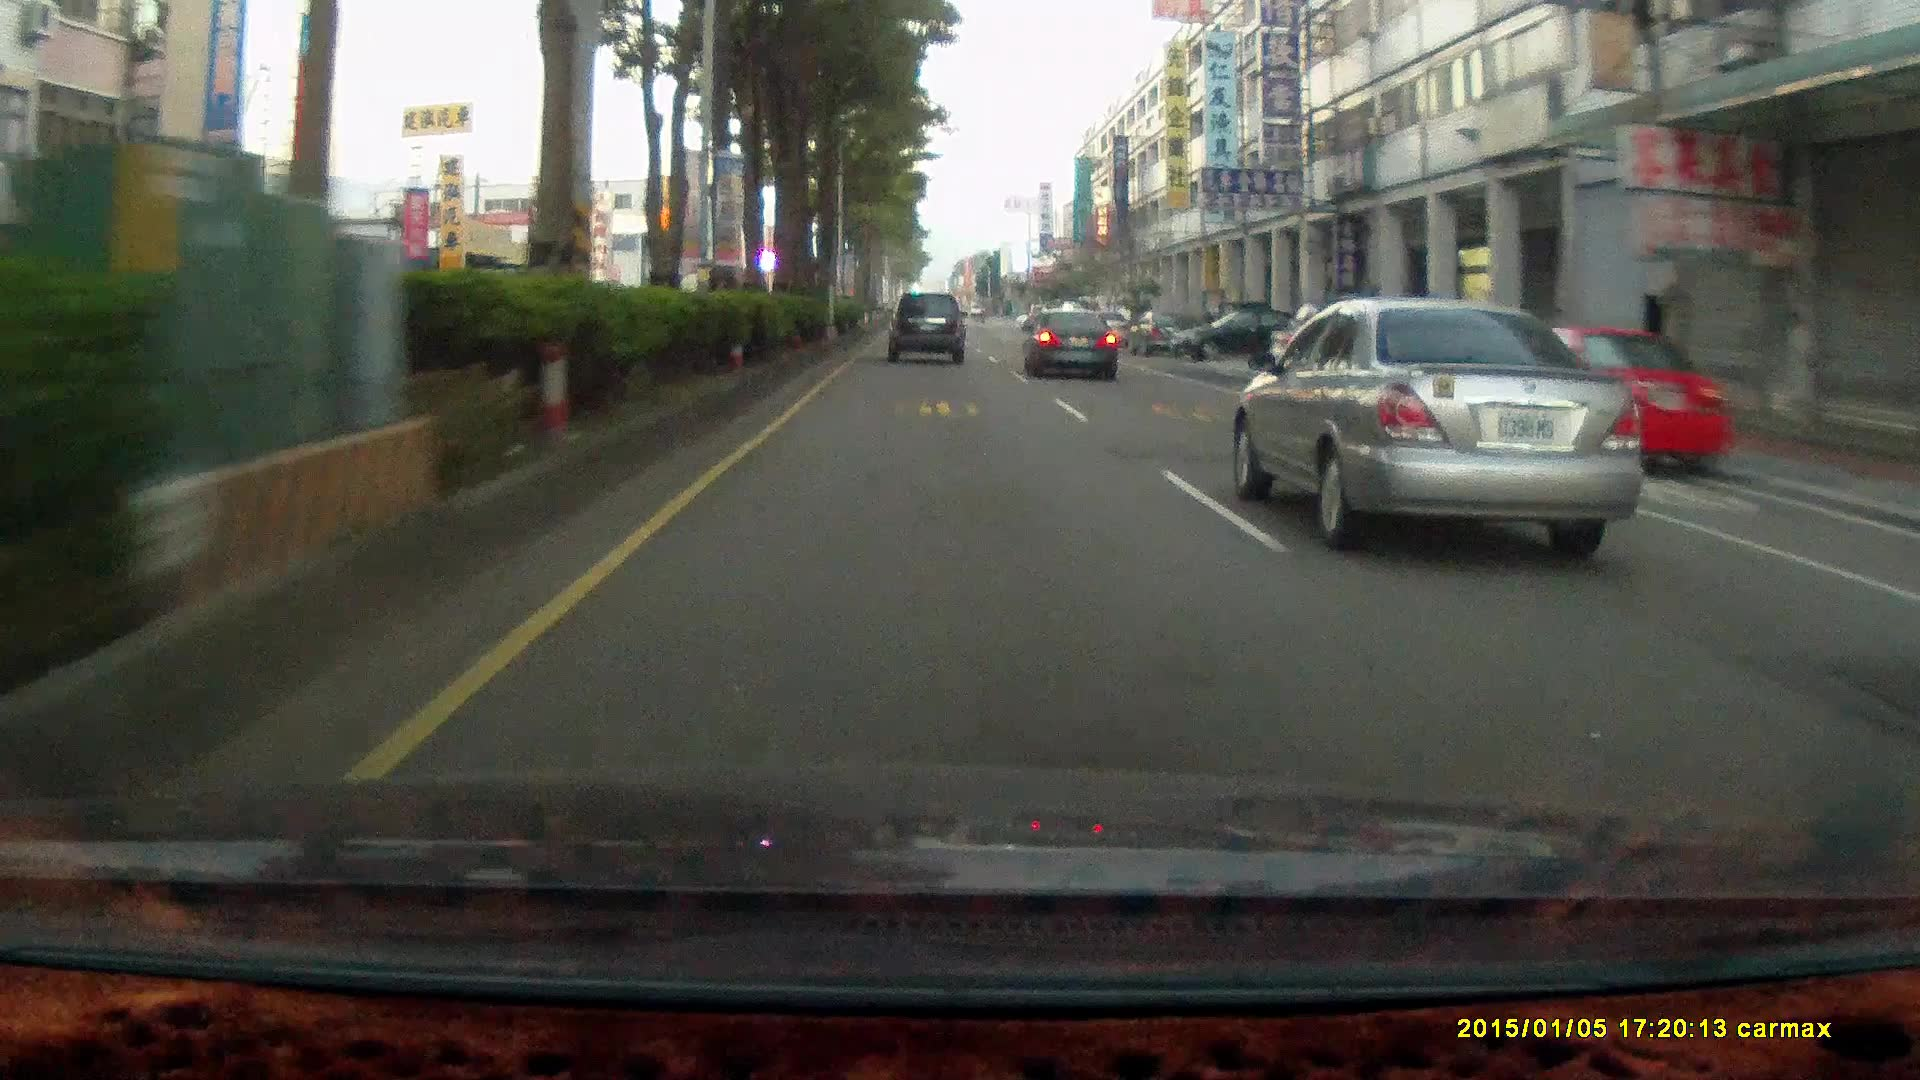vehicle: (1226, 286, 1665, 545), (1469, 324, 1734, 477), (1505, 319, 1734, 483), (1166, 306, 1312, 361), (1021, 309, 1120, 382), (1022, 306, 1118, 381), (886, 291, 971, 367), (885, 290, 967, 363), (1125, 309, 1195, 357)
